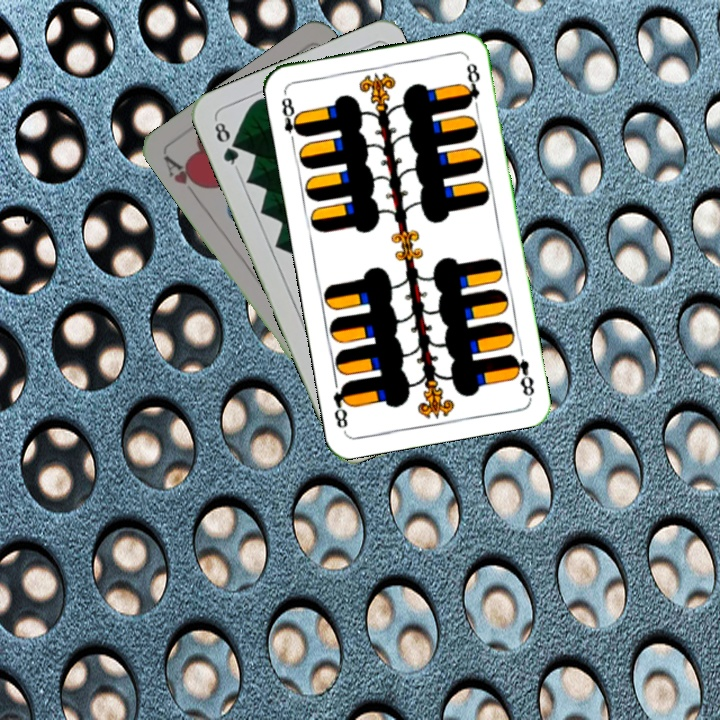E8: (277, 93, 306, 148), (506, 349, 537, 400)
G8: (210, 114, 242, 172)
HA: (160, 152, 207, 203)
